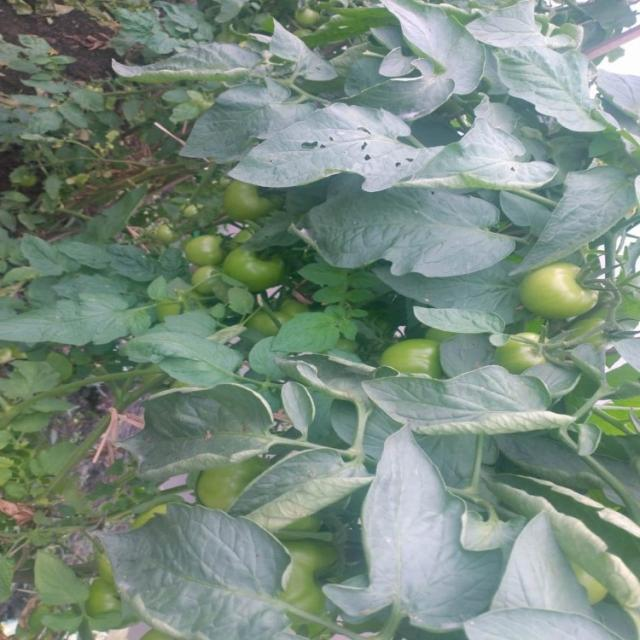tomato: (274, 531, 351, 625), (508, 263, 607, 328), (192, 447, 258, 504), (375, 335, 445, 382), (223, 240, 277, 290), (503, 326, 544, 378), (226, 186, 280, 222), (184, 227, 227, 259), (184, 265, 221, 298), (92, 577, 121, 619), (146, 222, 172, 242)
